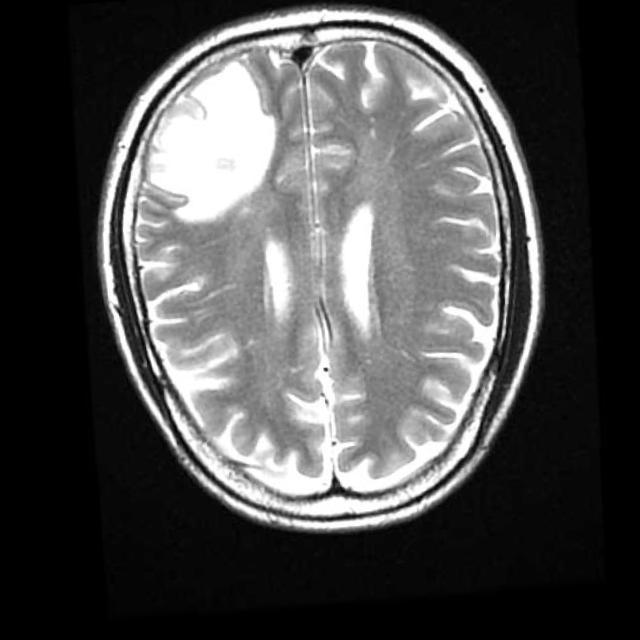Tumor: (147, 63, 273, 223)
